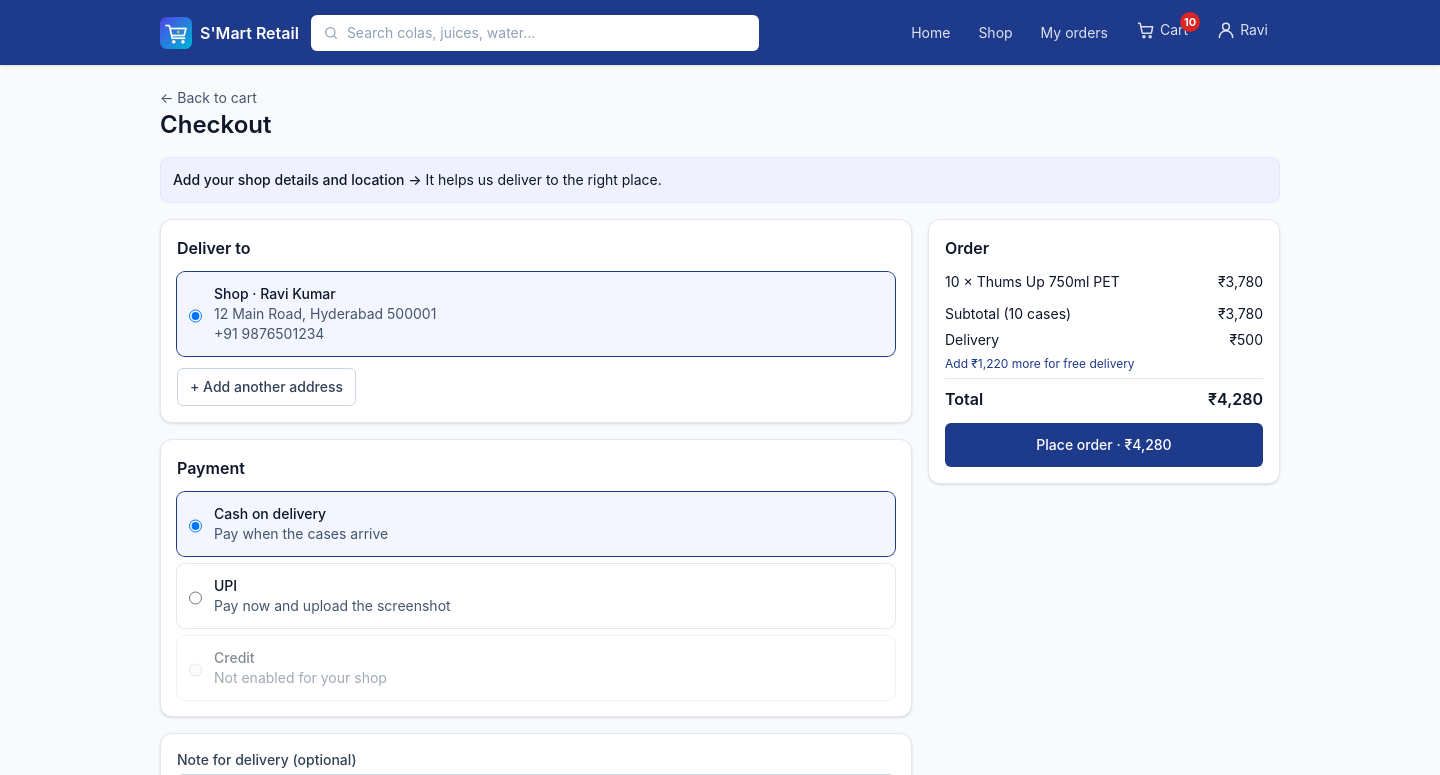
Test case: website › shows why the server refused an order and keeps the cart
Step 1. Click the button "Place order · ₹4,280" → click(1104, 445), box [945,423,1263,467]
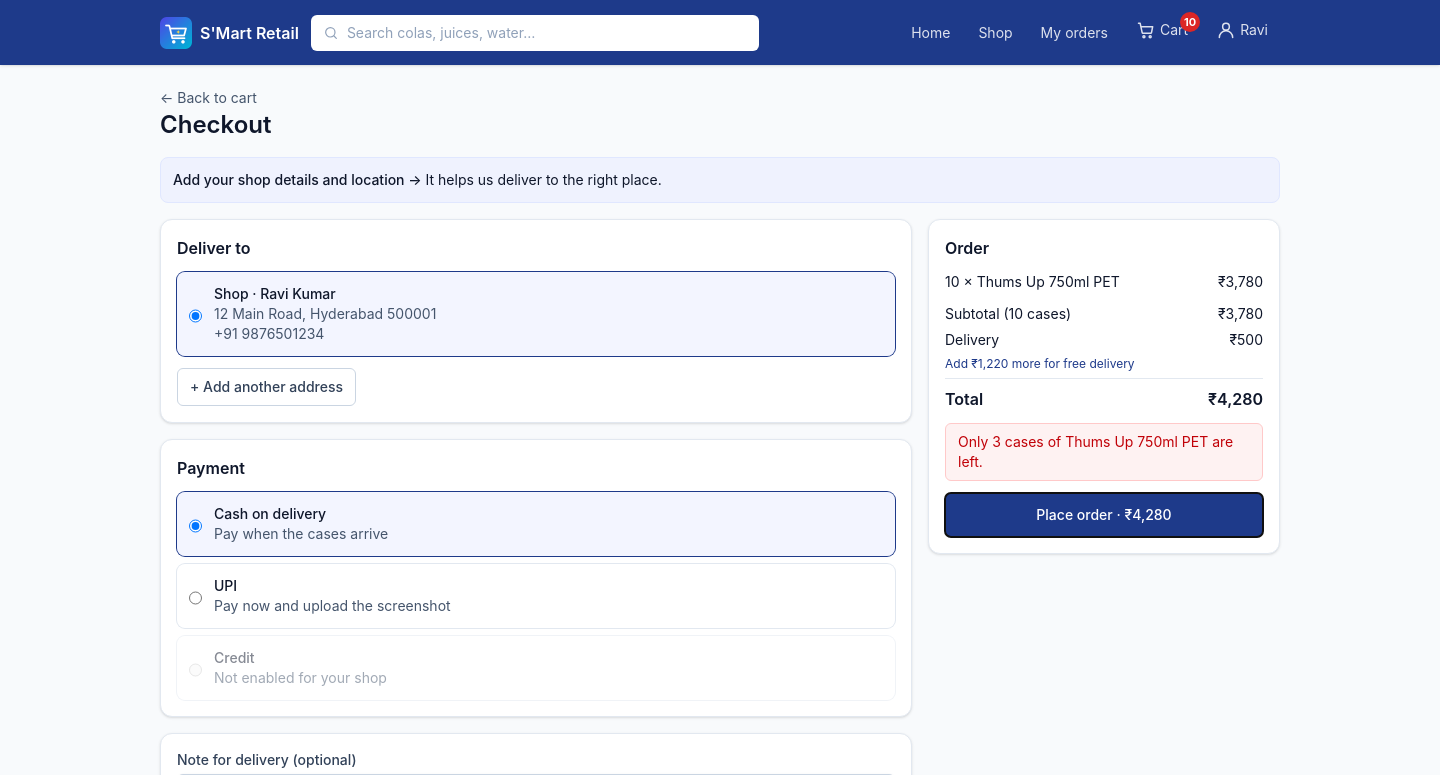
Expected: the message reads "Only 3 cases of Thums Up 750ml PET are left.", [958,433,1233,470]
